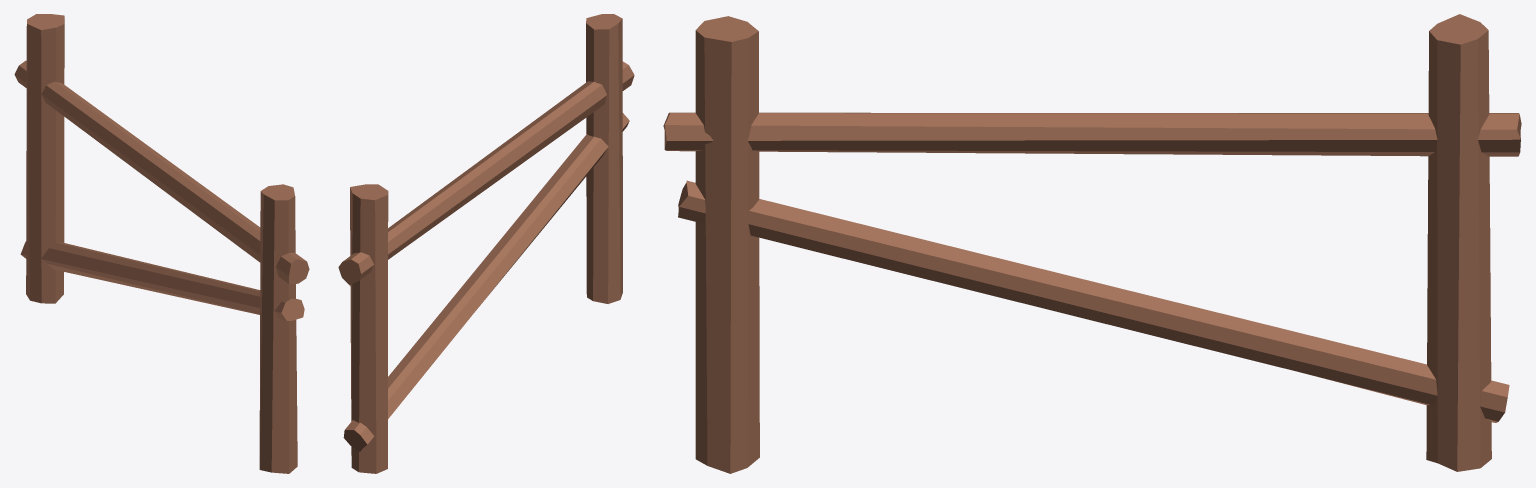
Rendered from Fence3.fbx.
3 renders of one model, left to right at view 1: azimuth 30°, elevation 25°; view 2: azimuth 150°, elevation 25°; view 3: azimuth 270°, elevation 25°, orthographic. The views are drawn at different scales.
Visible parts, largest first — view 1: Fence 3; view 2: Fence 3; view 3: Fence 3.
Part boxes in pixels (x1,y1,x2,y2): Fence 3: (14,14,309,473); Fence 3: (338,14,634,473); Fence 3: (663,14,1521,473).
Size of the model in its own units: 5.72 by 39.82 by 71.24.
